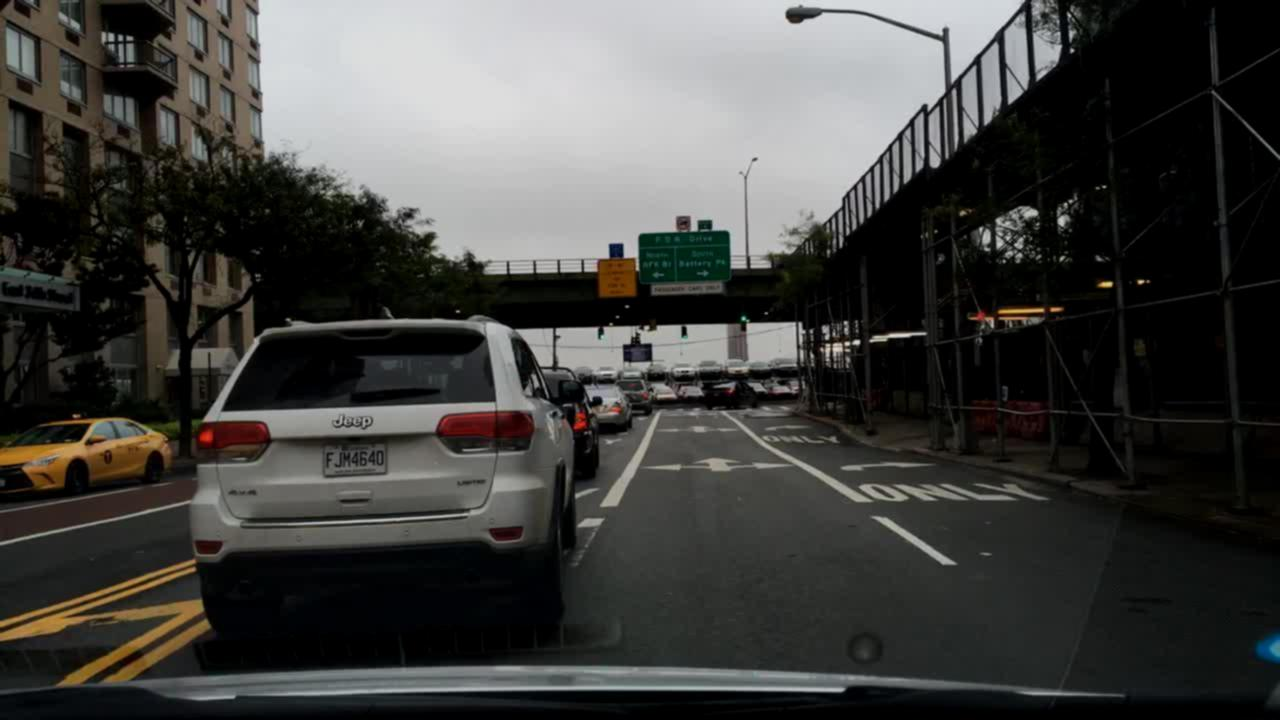jeep: (327, 403, 384, 441)
